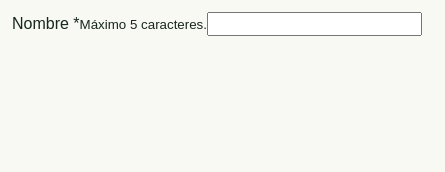
Test: Composición de controles reutilizables › asocia la etiqueta con el control y conserva sus restricciones
Type "abcdef" into the field labelled "Nombre *Máximo 5 caracteres." at coordinates (314, 24), box 207,12 -> 422,36
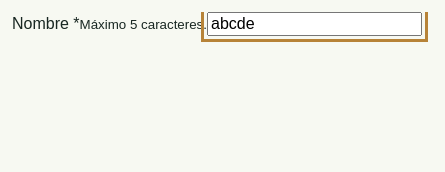
Expected: the text "Máximo 5 caracteres." is shown, 80,17 -> 207,32
Expected: the field labelled "Nombre *Máximo 5 caracteres." holds "abcde", 207,12 -> 422,36
